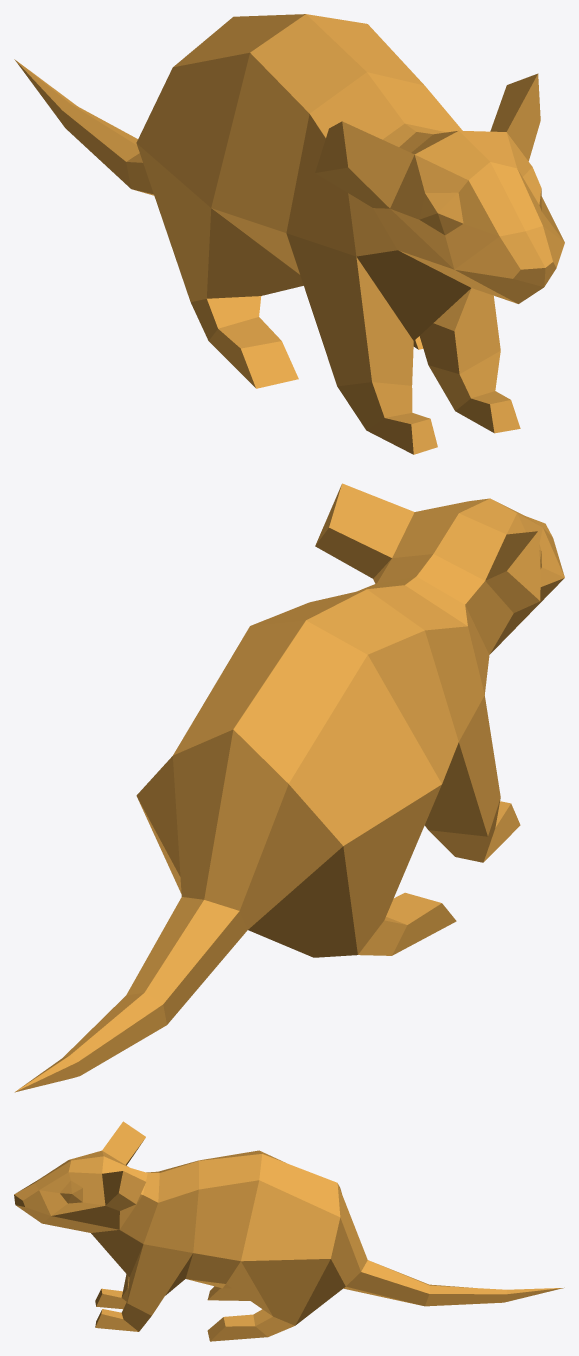
Rendered from rat.fbx.
3 renders of one model, top to bottom at view 1: azimuth 30°, elevation 25°; view 2: azimuth 150°, elevation 25°; view 3: azimuth 270°, elevation 25°, orthographic. The views are drawn at different scales.
Visible parts, largest first — view 1: rat; view 2: rat; view 3: rat.
Boxes of the visible parts, left/top/right/bottom form: rat: left=14, top=14, right=564, bottom=454; rat: left=14, top=483, right=564, bottom=1092; rat: left=14, top=1121, right=564, bottom=1341.
Size of the model in its own units: 0.1535 by 0.2108 by 0.6121.
